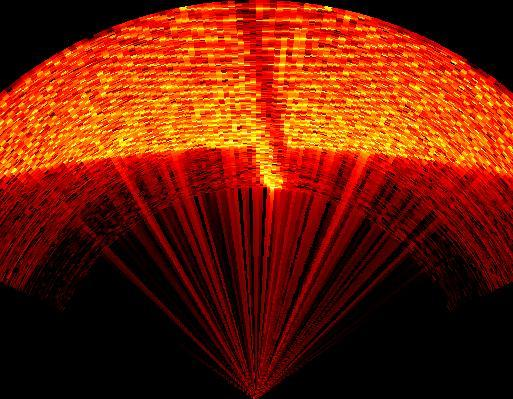pipe: (202, 4, 297, 190)
